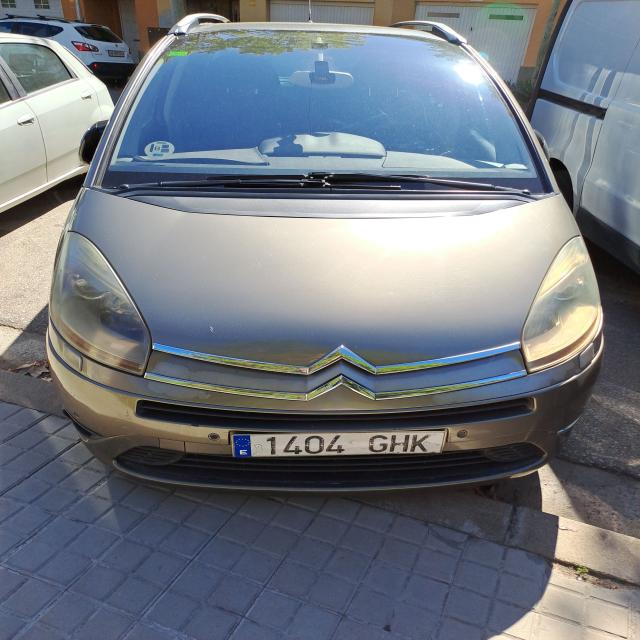license_plate-34Td: (231, 430, 447, 459)
